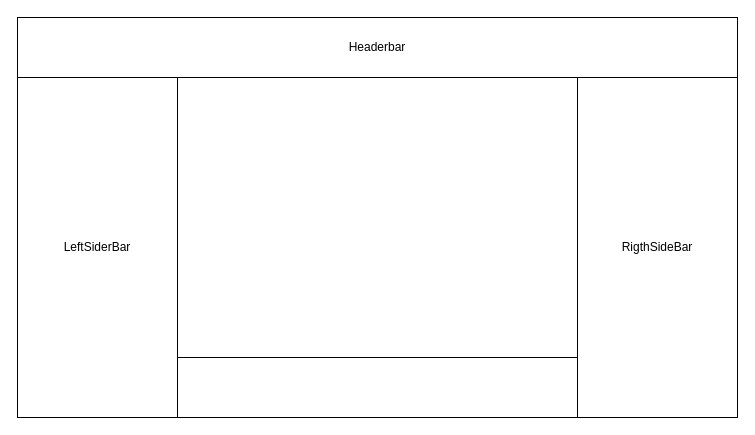
Some shapes in this 755 by 435 pixel diagram are drawn without their labels. The box of each missing label's shape, as (x1, y1, x2, y2) in pixels:
Footer: (176, 356, 578, 418)
MainContainer: (176, 76, 578, 358)
